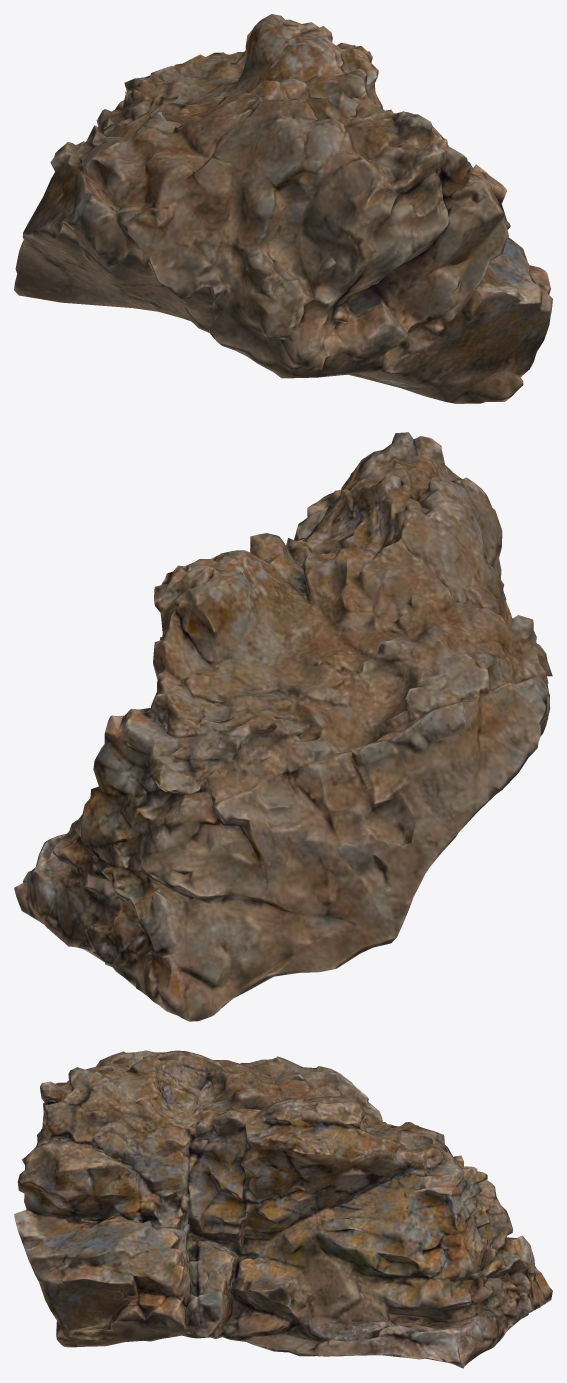
The model's file is boulder.glb.
3 renders of one model, top to bottom at view 1: azimuth 30°, elevation 25°; view 2: azimuth 150°, elevation 25°; view 3: azimuth 270°, elevation 25°, orthographic. The views are drawn at different scales.
Bounding box in the file's own units: 1.27 × 1 × 1.83.
Materials: 1 (1 with a texture image).
